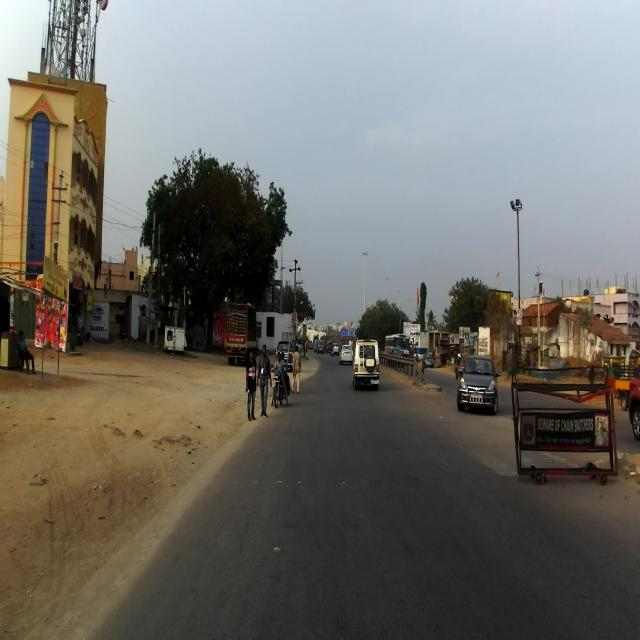car: (456, 354, 501, 414), (351, 338, 380, 390)
